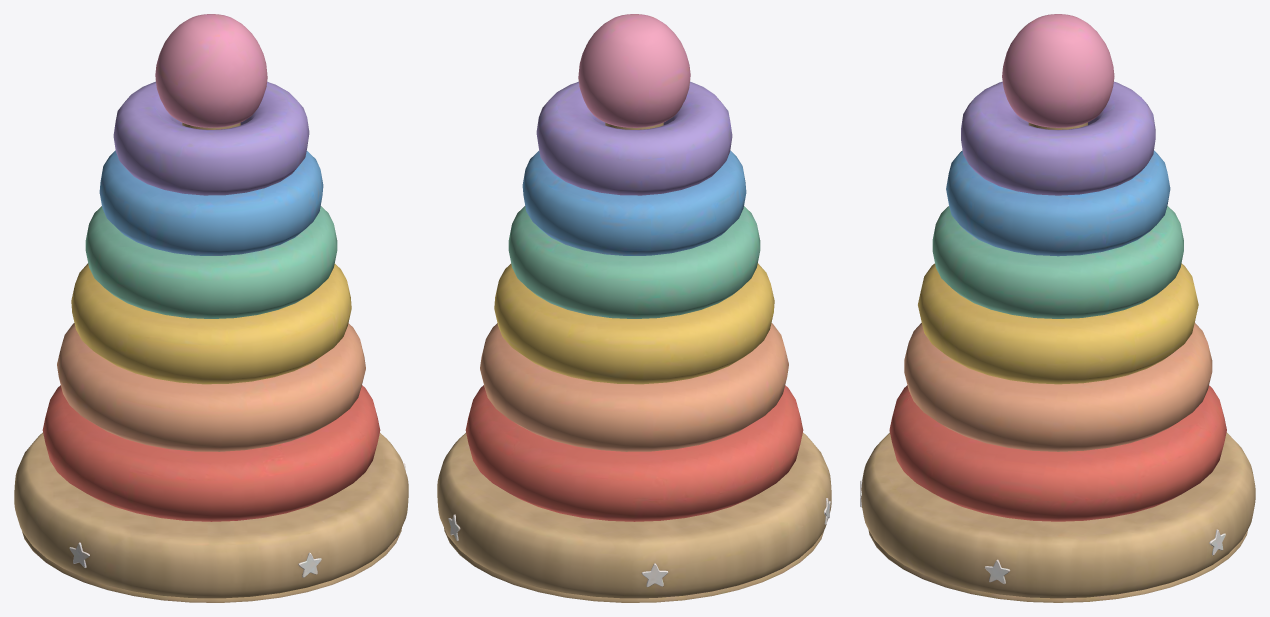
Rendered from aros_apilables.glb.
3 views of the same model, side by side, from view 1: azimuth 30°, elevation 25°; view 2: azimuth 150°, elevation 25°; view 3: azimuth 270°, elevation 25° (orthographic).
Visible parts, largest first — view 1: stacking-rings_body; view 2: stacking-rings_body; view 3: stacking-rings_body.
Boxes of the visible parts, box(x1,y1,x2,y2) form: stacking-rings_body: box(14, 14, 408, 602); stacking-rings_body: box(437, 14, 831, 602); stacking-rings_body: box(860, 14, 1255, 602).
Size of the model in its own units: 0.1229 by 0.1727 by 0.123.
1 material, 1 textured.
